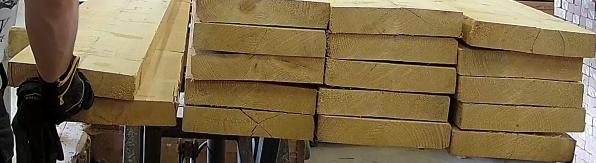Wood-Plank: (7, 61, 136, 101), (471, 20, 596, 60), (185, 78, 318, 115), (193, 21, 327, 56), (319, 87, 451, 122), (330, 2, 464, 36), (327, 59, 457, 94), (317, 115, 452, 148), (191, 50, 324, 83), (450, 126, 577, 160), (456, 75, 583, 108), (460, 49, 583, 83), (184, 107, 313, 139), (328, 34, 459, 63), (196, 0, 331, 28), (33, 99, 177, 125), (461, 104, 584, 132)
